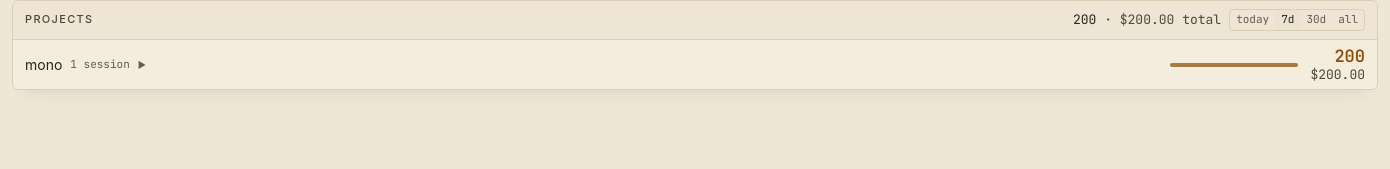
Test: ProjectsPanel figures › does not show a fourth-level directory as its own row
Click the button titled "mono: show cost by directory": [44, 64] box [13,40,1377,89]
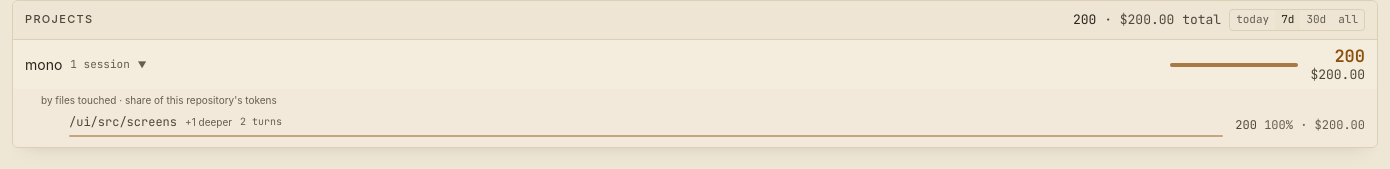
Expected: the text "/ui/src/screens" is shown, [69,114,177,131]
Expected: the text "+1 deeper" is shown, [185,115,232,130]
Expected: the element showing "200 100% · $200.00" is shown, [1235,117,1365,134]
